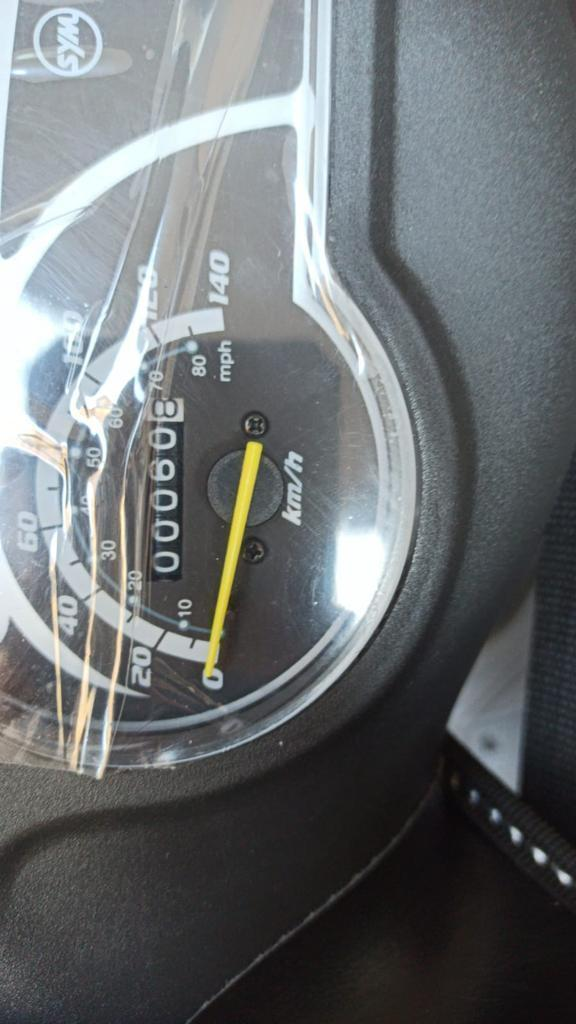0: (149, 488, 179, 512), (150, 550, 180, 573), (148, 427, 177, 450), (150, 519, 179, 542)
6: (147, 458, 176, 481)
8: (151, 398, 177, 418)
odometer: (142, 394, 185, 582)
